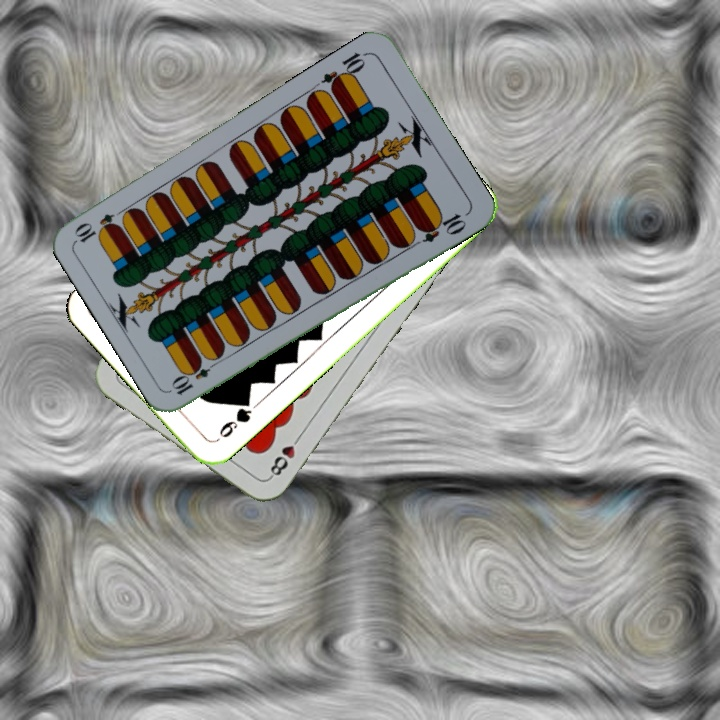E10: (318, 48, 371, 94), (168, 355, 222, 398)
G9: (215, 394, 255, 441)
H8: (265, 430, 305, 481)
